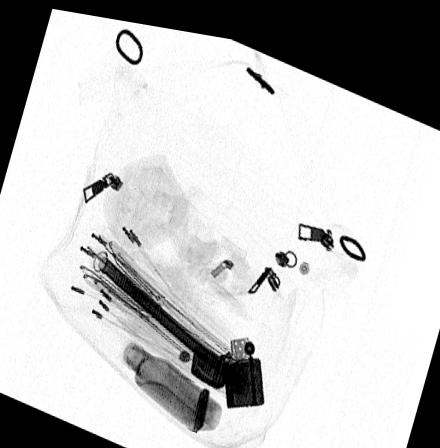Lighter: (189, 327, 265, 401)
